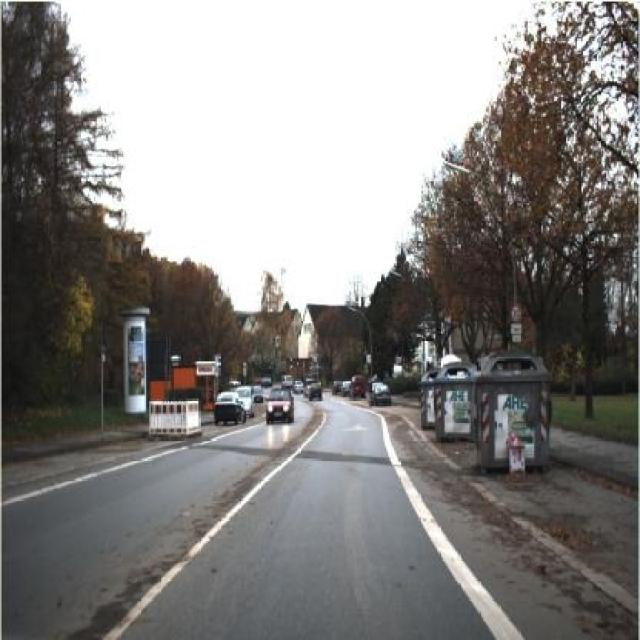forb_speed_over_30: (509, 303, 522, 326)
